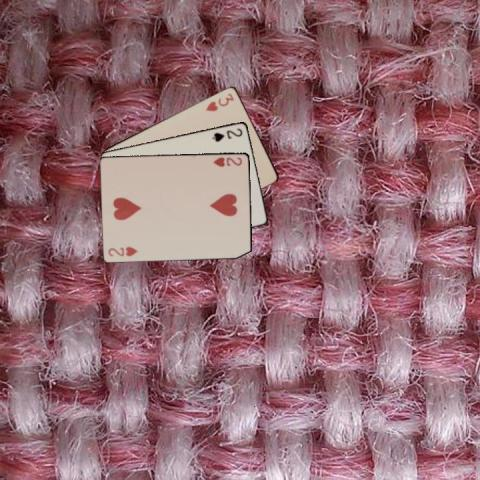2h: (211, 154, 243, 168), (105, 244, 139, 257)
2s: (209, 125, 244, 143)
3h: (204, 90, 236, 113)
